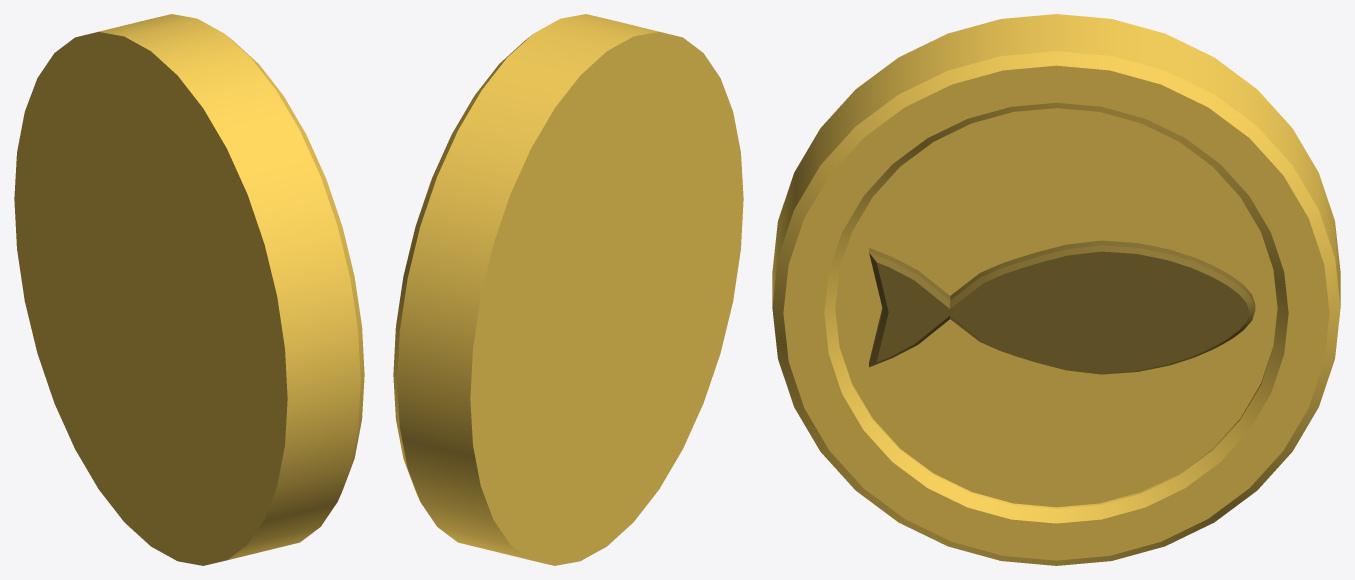
Rendered from coin.fbx.
The picture shows the model from 3 angles, left to right: view 1: azimuth 30°, elevation 25°; view 2: azimuth 150°, elevation 25°; view 3: azimuth 270°, elevation 25°; orthographic projection. The views are drawn at different scales.
Visible parts, largest first — view 1: Cylinder.009; view 2: Cylinder.009; view 3: Cylinder.009.
Boxes of the visible parts, x1,y1,x2,y2 form: Cylinder.009: (14, 14, 364, 565); Cylinder.009: (393, 14, 743, 565); Cylinder.009: (772, 14, 1340, 565).
Size of the model in its own units: 9.31 by 52.4 by 52.4.
